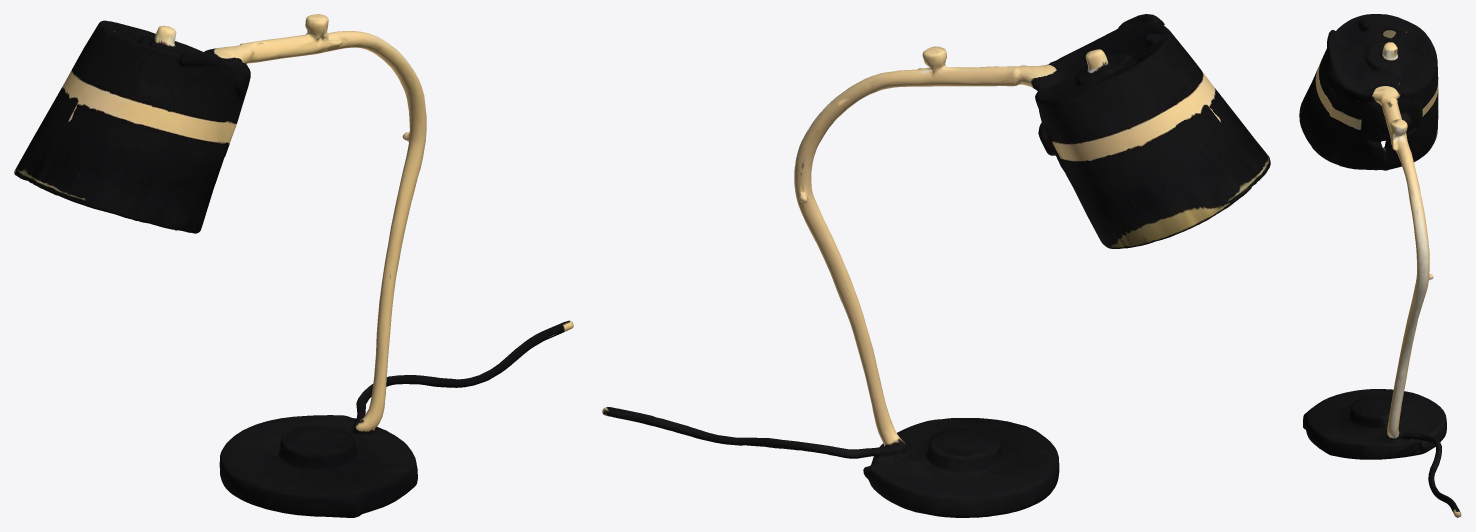
File: table_lamp.glb
3 views of the same model, side by side, from view 1: azimuth 30°, elevation 25°; view 2: azimuth 150°, elevation 25°; view 3: azimuth 270°, elevation 25° (orthographic). The views are drawn at different scales.
Bounding box in the file's own units: 2.01 × 1.57 × 0.6581.
1 material, 1 textured.
